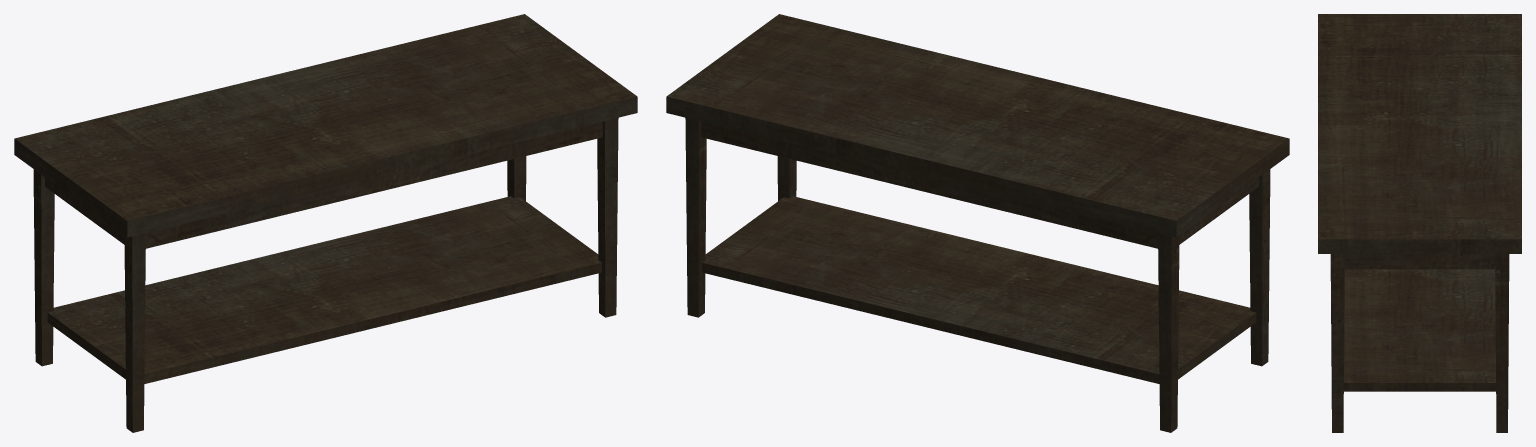
The model's file is coffee_table_1_4.obj.
The picture shows the model from 3 angles, left to right: view 1: azimuth 30°, elevation 25°; view 2: azimuth 150°, elevation 25°; view 3: azimuth 270°, elevation 25°; orthographic projection. The views are drawn at different scales.
Visible parts, largest first — view 1: coffee_table_1_4; view 2: coffee_table_1_4; view 3: coffee_table_1_4.
Part boxes in pixels (<box>): coffee_table_1_4: <box>14,14,637,432</box>; coffee_table_1_4: <box>666,14,1289,432</box>; coffee_table_1_4: <box>1318,14,1521,432</box>.
Size of the model in its own units: 1.62 by 0.67 by 0.62.
